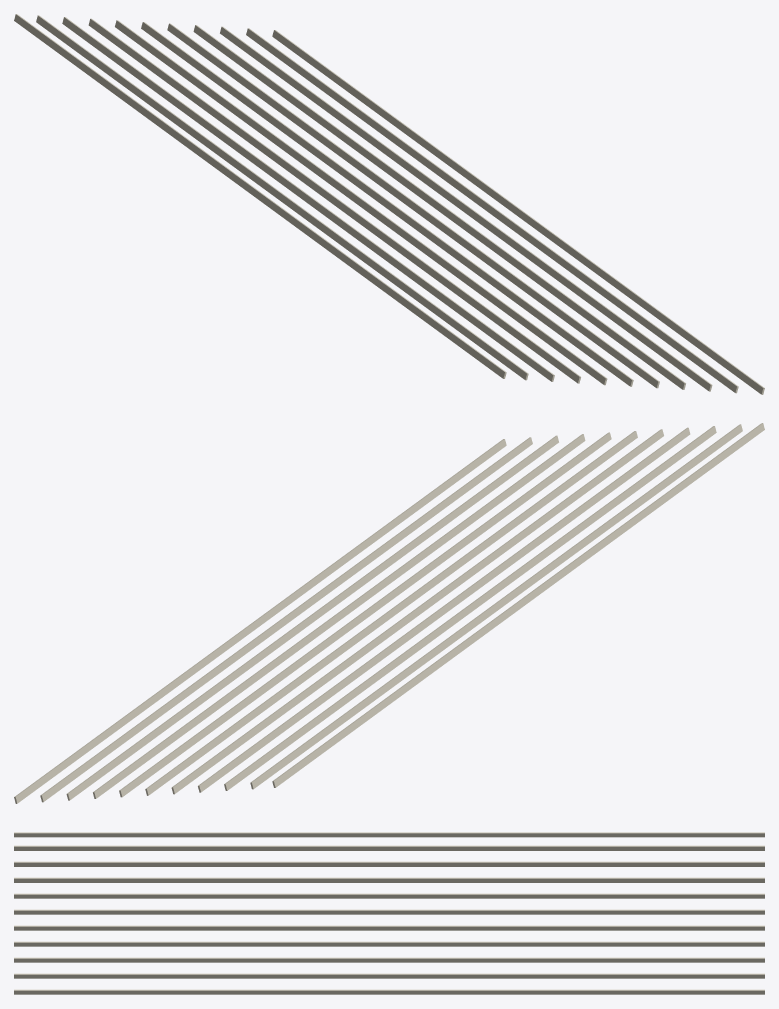
The model's file is post_frame_1.glb.
The picture shows the model from 3 angles, top to bottom: view 1: azimuth 30°, elevation 25°; view 2: azimuth 150°, elevation 25°; view 3: azimuth 270°, elevation 25°; orthographic projection. The views are drawn at different scales.
Parts seen in each view (by area): view 1: 3DGeom-1 (×11); view 2: 3DGeom-1 (×11); view 3: 3DGeom-1 (×11).
Part boxes in pixels (bbox=[...]): 3DGeom-1 (×11): bbox=[14, 14, 764, 394]; 3DGeom-1 (×11): bbox=[14, 423, 764, 803]; 3DGeom-1 (×11): bbox=[14, 832, 764, 994].
Size of the model in its own units: 5.83 by 1.82 by 18.9.
